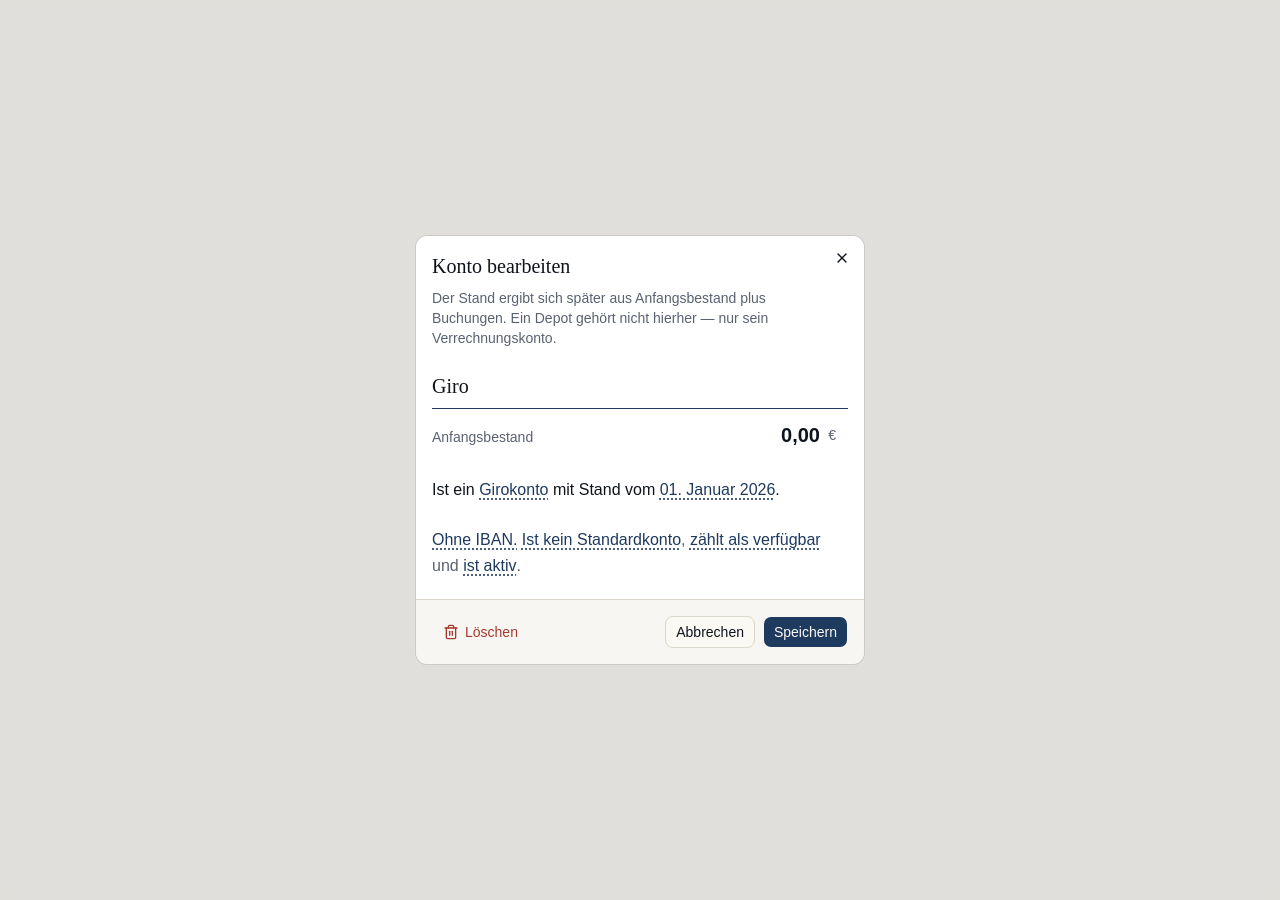
Scenario: AccountDialog sentence › names the type and the opening date, and offers a chip panel for the type
What coordinates should you click on to do the following:
click the button "Girokonto"
I would click on:
 (514, 490)
Its box is [477, 477, 550, 503].
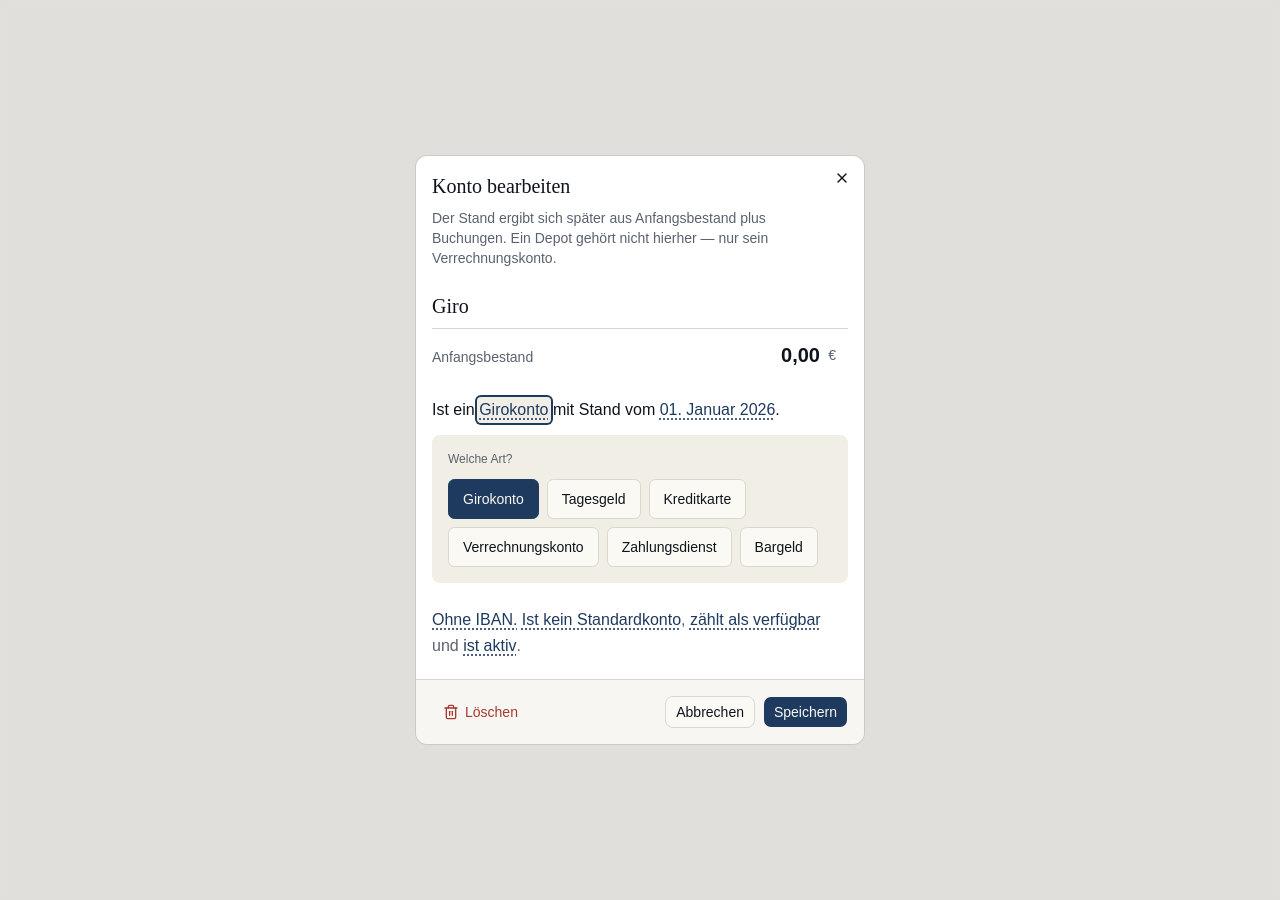
What coordinates should you click on to do the following:
click the button "Tagesgeld"
I would click on:
 (594, 499)
Its box is [547, 479, 640, 519].
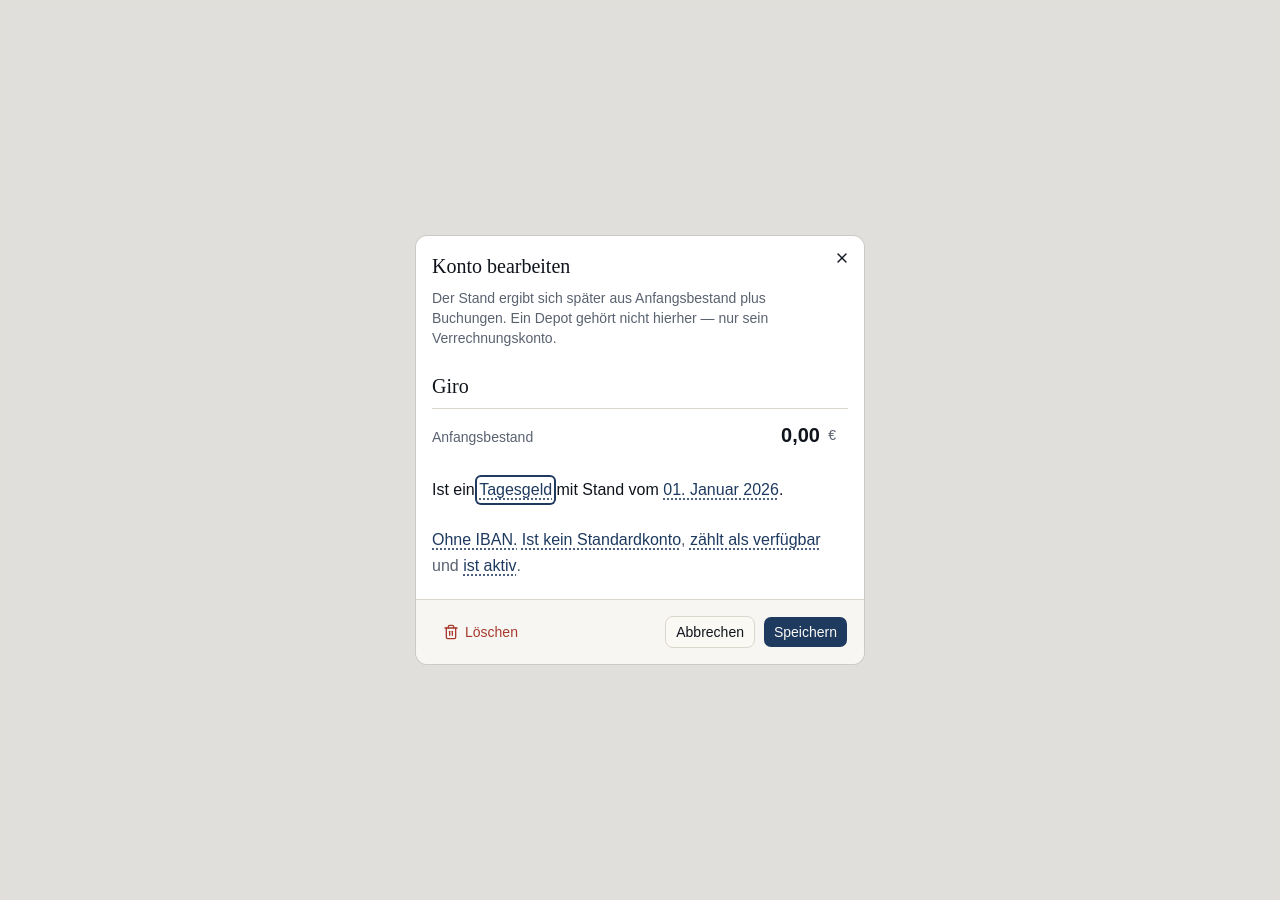
Now the button "Tagesgeld" is shown, box [477, 477, 554, 503]
Now the text "Welche Art?" is gone
